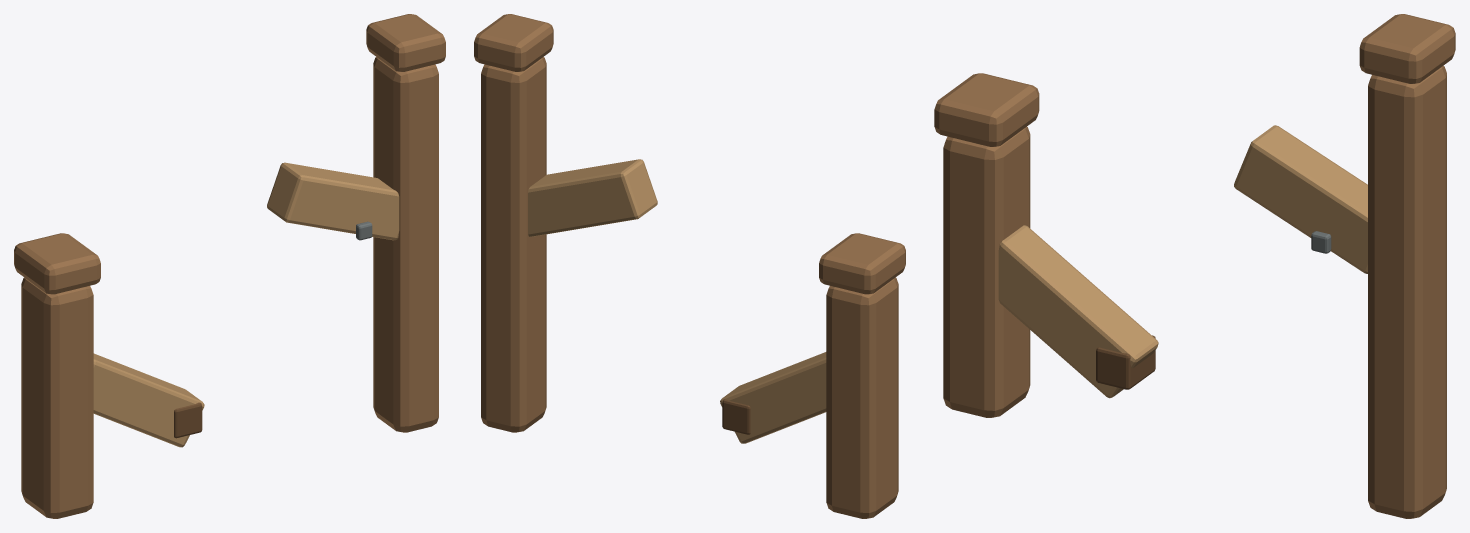
The model's file is cerca_quebrada.glb.
3 views of the same model, side by side, from view 1: azimuth 30°, elevation 25°; view 2: azimuth 150°, elevation 25°; view 3: azimuth 330°, elevation 25° (orthographic). The views are drawn at different scales.
Parts seen in each view (by area): view 1: cerca_quebrada | Madeira de carvalho, cerca_quebrada | Tábuas de madeira, Lasca; view 2: cerca_quebrada | Madeira de carvalho, cerca_quebrada | Tábuas de madeira, Lasca; view 3: cerca_quebrada | Madeira de carvalho, cerca_quebrada | Tábuas de madeira, Lasca.
Boxes of the visible parts, left/top/right/bottom form: cerca_quebrada | Madeira de carvalho: left=14, top=14, right=445, bottom=518; cerca_quebrada | Tábuas de madeira: left=93, top=162, right=399, bottom=447; Lasca: left=174, top=402, right=202, bottom=438; cerca_quebrada | Madeira de carvalho: left=474, top=14, right=905, bottom=518; cerca_quebrada | Tábuas de madeira: left=528, top=159, right=826, bottom=443; Lasca: left=722, top=399, right=750, bottom=434; cerca_quebrada | Madeira de carvalho: left=934, top=14, right=1455, bottom=518; cerca_quebrada | Tábuas de madeira: left=998, top=125, right=1367, bottom=398; Lasca: left=1096, top=335, right=1155, bottom=389.
Size of the model in its own units: 0.9923 by 0.93 by 0.161.
